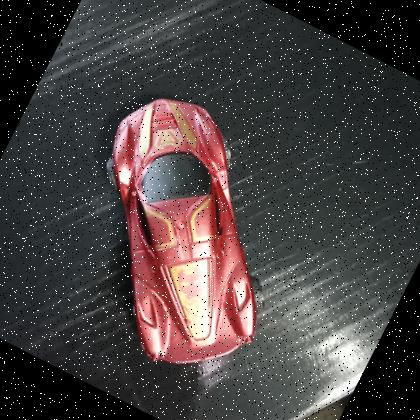Car: (23, 68, 344, 404)
